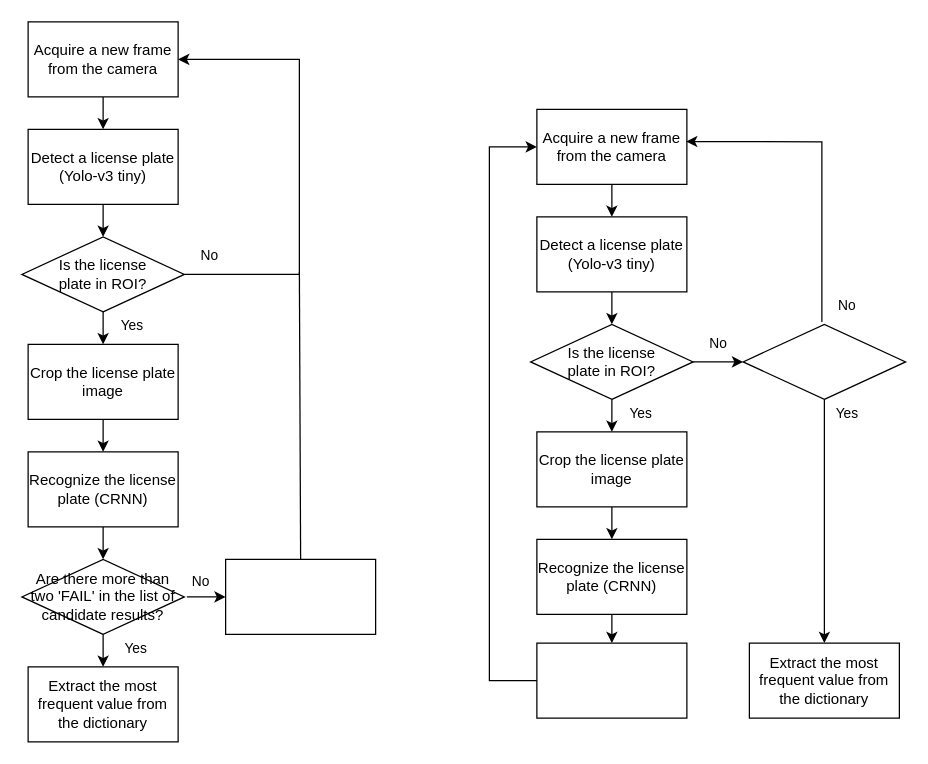
This 928x764 diagram has some shape labels left out. Here are the shapes that lost their labels. From the top down, the centre of each, then its label:
At point (824, 361): "Is there value in the dictionary?".
At point (300, 596): "Save the license plate in dictionary".
At point (611, 680): "Save the result value in dictionary".
